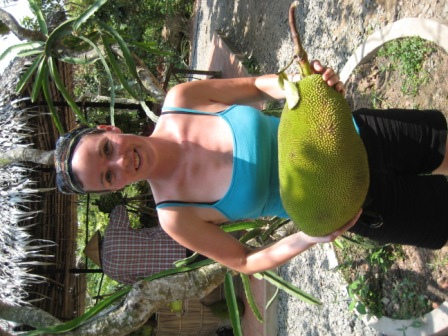jackfruit: (277, 73, 371, 238)
